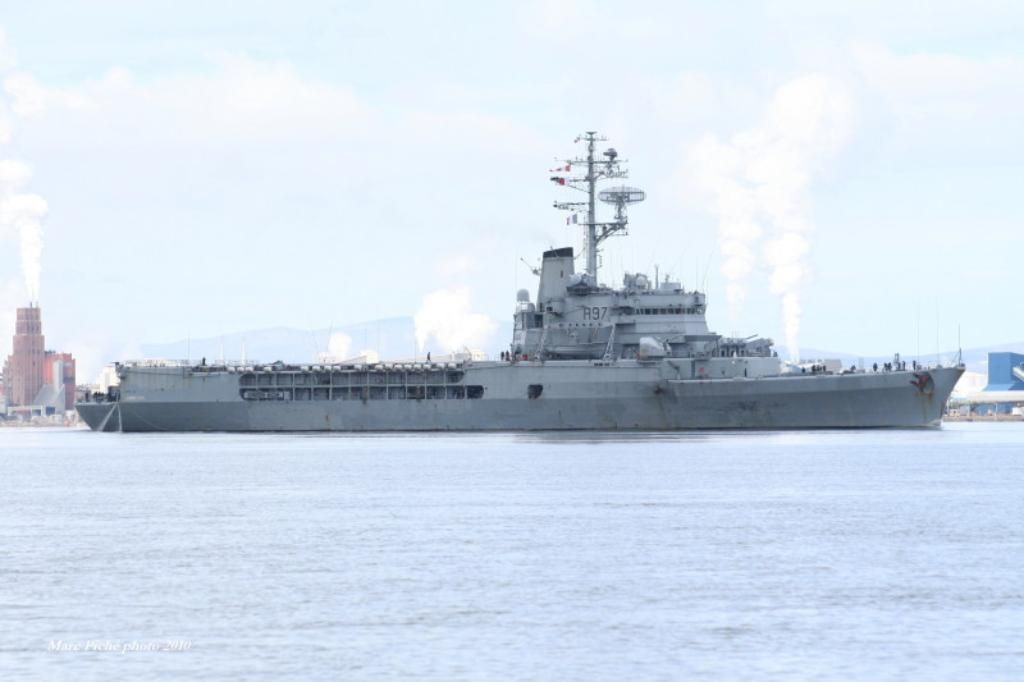Warship: (60, 127, 970, 435)
